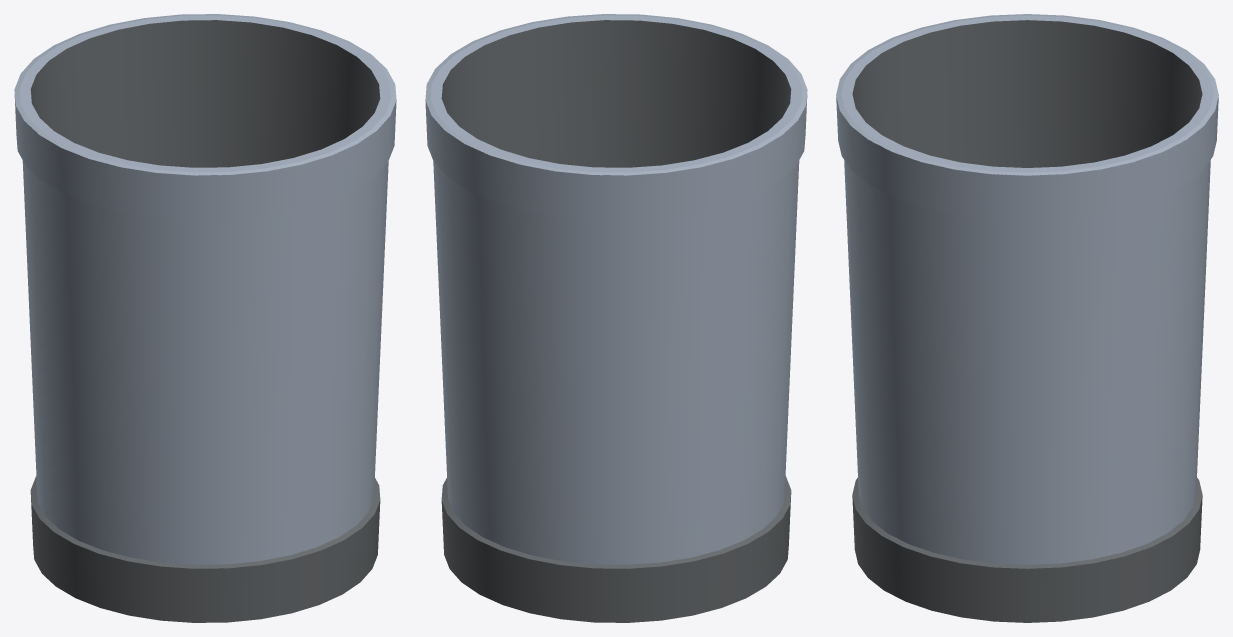
The model's file is Trashcan.fbx.
The picture shows the model from 3 angles, left to right: view 1: azimuth 30°, elevation 25°; view 2: azimuth 150°, elevation 25°; view 3: azimuth 270°, elevation 25°; orthographic projection.
Visible parts, largest first — view 1: Cylinder.006, Cylinder.007, Cylinder.008; view 2: Cylinder.006, Cylinder.007, Cylinder.008; view 3: Cylinder.006, Cylinder.007, Cylinder.008.
Part boxes in pixels (x1,y1,x2,y2): Cylinder.006: [14, 14, 396, 564]; Cylinder.007: [30, 20, 380, 167]; Cylinder.008: [30, 476, 380, 622]; Cylinder.006: [425, 14, 807, 564]; Cylinder.007: [441, 20, 791, 167]; Cylinder.008: [441, 476, 791, 622]; Cylinder.006: [836, 14, 1218, 564]; Cylinder.007: [852, 20, 1202, 167]; Cylinder.008: [852, 477, 1202, 622].
Size of the model in its own units: 206 by 270 by 206.
